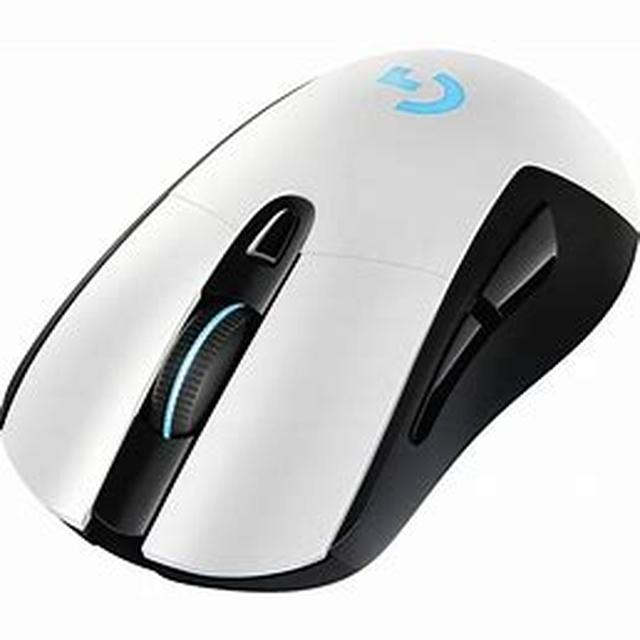mouse: (0, 6, 633, 628)
